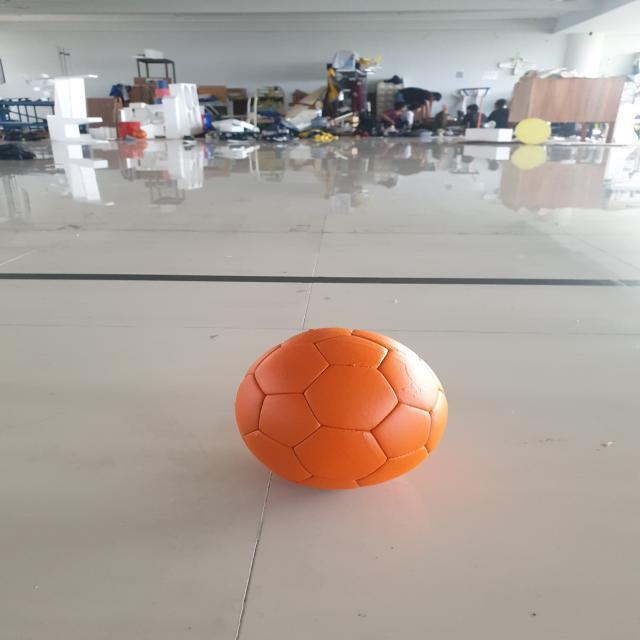bola: (203, 312, 466, 509)
